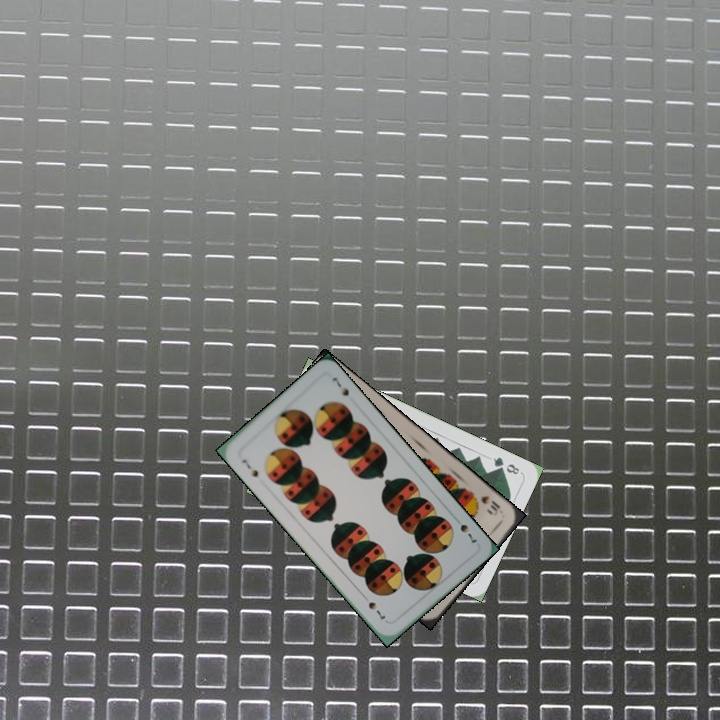G8: (489, 453, 522, 477)
S10: (477, 491, 503, 518)
S7: (456, 520, 480, 546), (237, 455, 261, 480)
